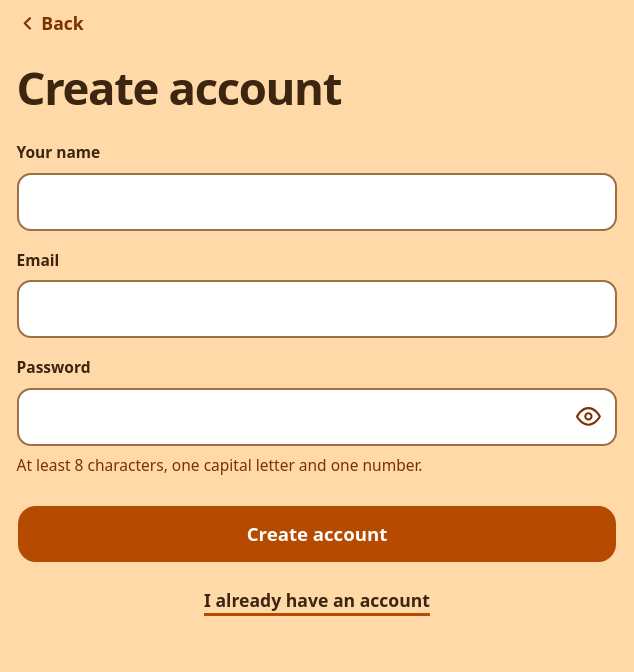
it: SignUpScreen › shows the en text for the answer RATE_LIMITED inline
Type "Filip" into the field labelled "Your name" at (317, 202), box [16,173,618,231]
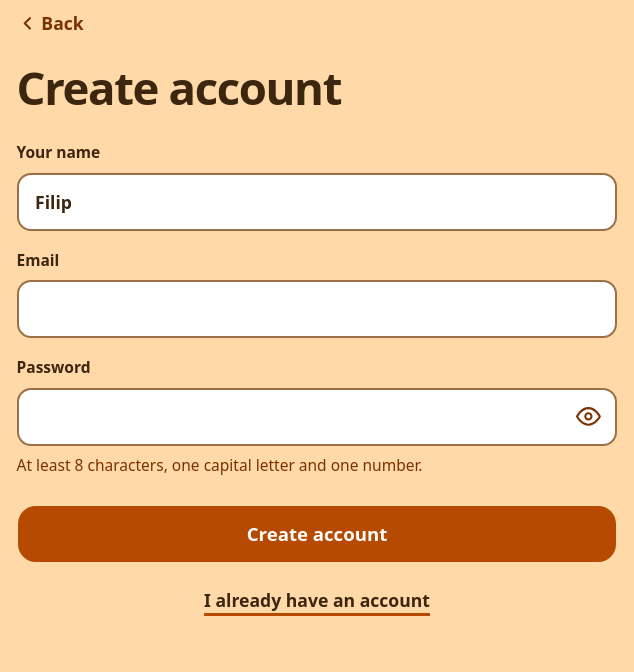
Type "filip@example.com" into the field labelled "Email" at (317, 309), box [16,280,618,338]
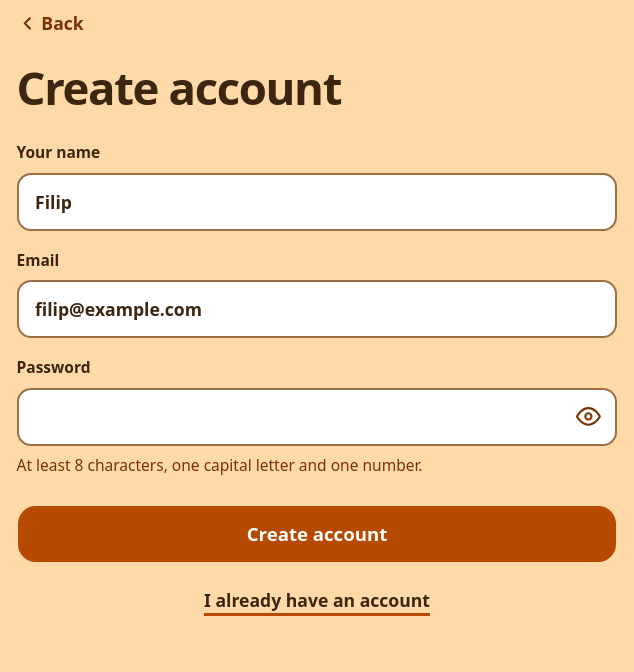
Type "Passw0rdOk" into the password field labelled "Password" at (317, 417), box [16,388,618,446]
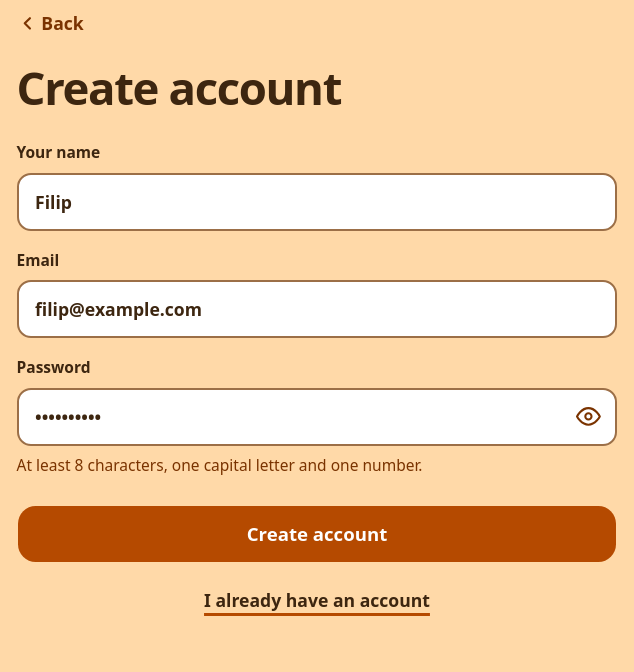
Click the button "Create account" at (317, 534), box [16,506,618,564]
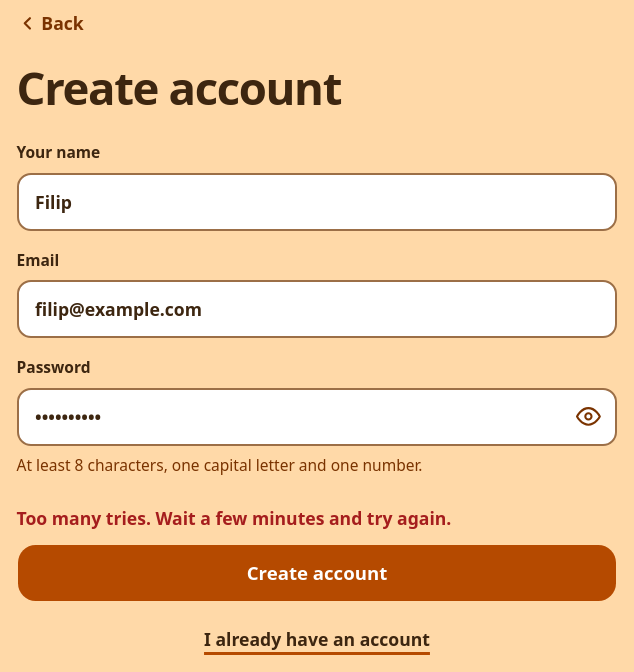
Expected: the message reads "Too many tries. Wait a few minutes and try again.", [16,506,451,530]
